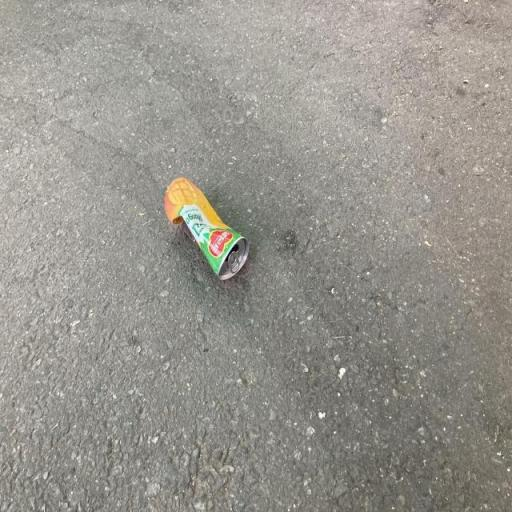metal: (150, 160, 252, 298)
